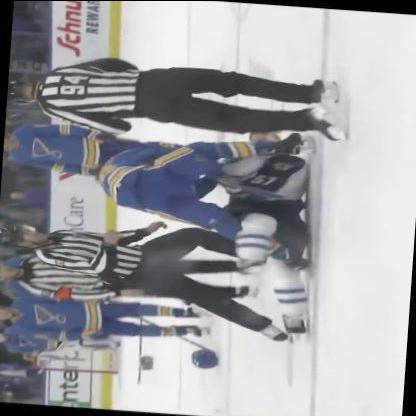non-Voilence: (6, 48, 348, 146), (0, 213, 200, 305)
voilence: (91, 120, 325, 237)
